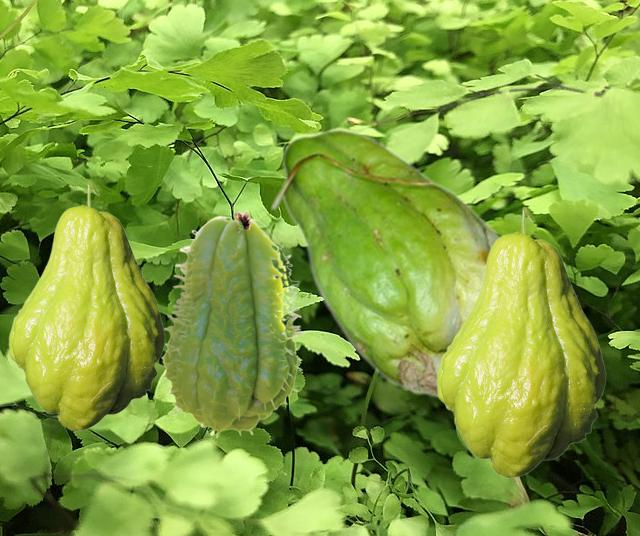sayote: (269, 128, 500, 399), (436, 206, 605, 477), (8, 181, 164, 430), (159, 210, 304, 438)
